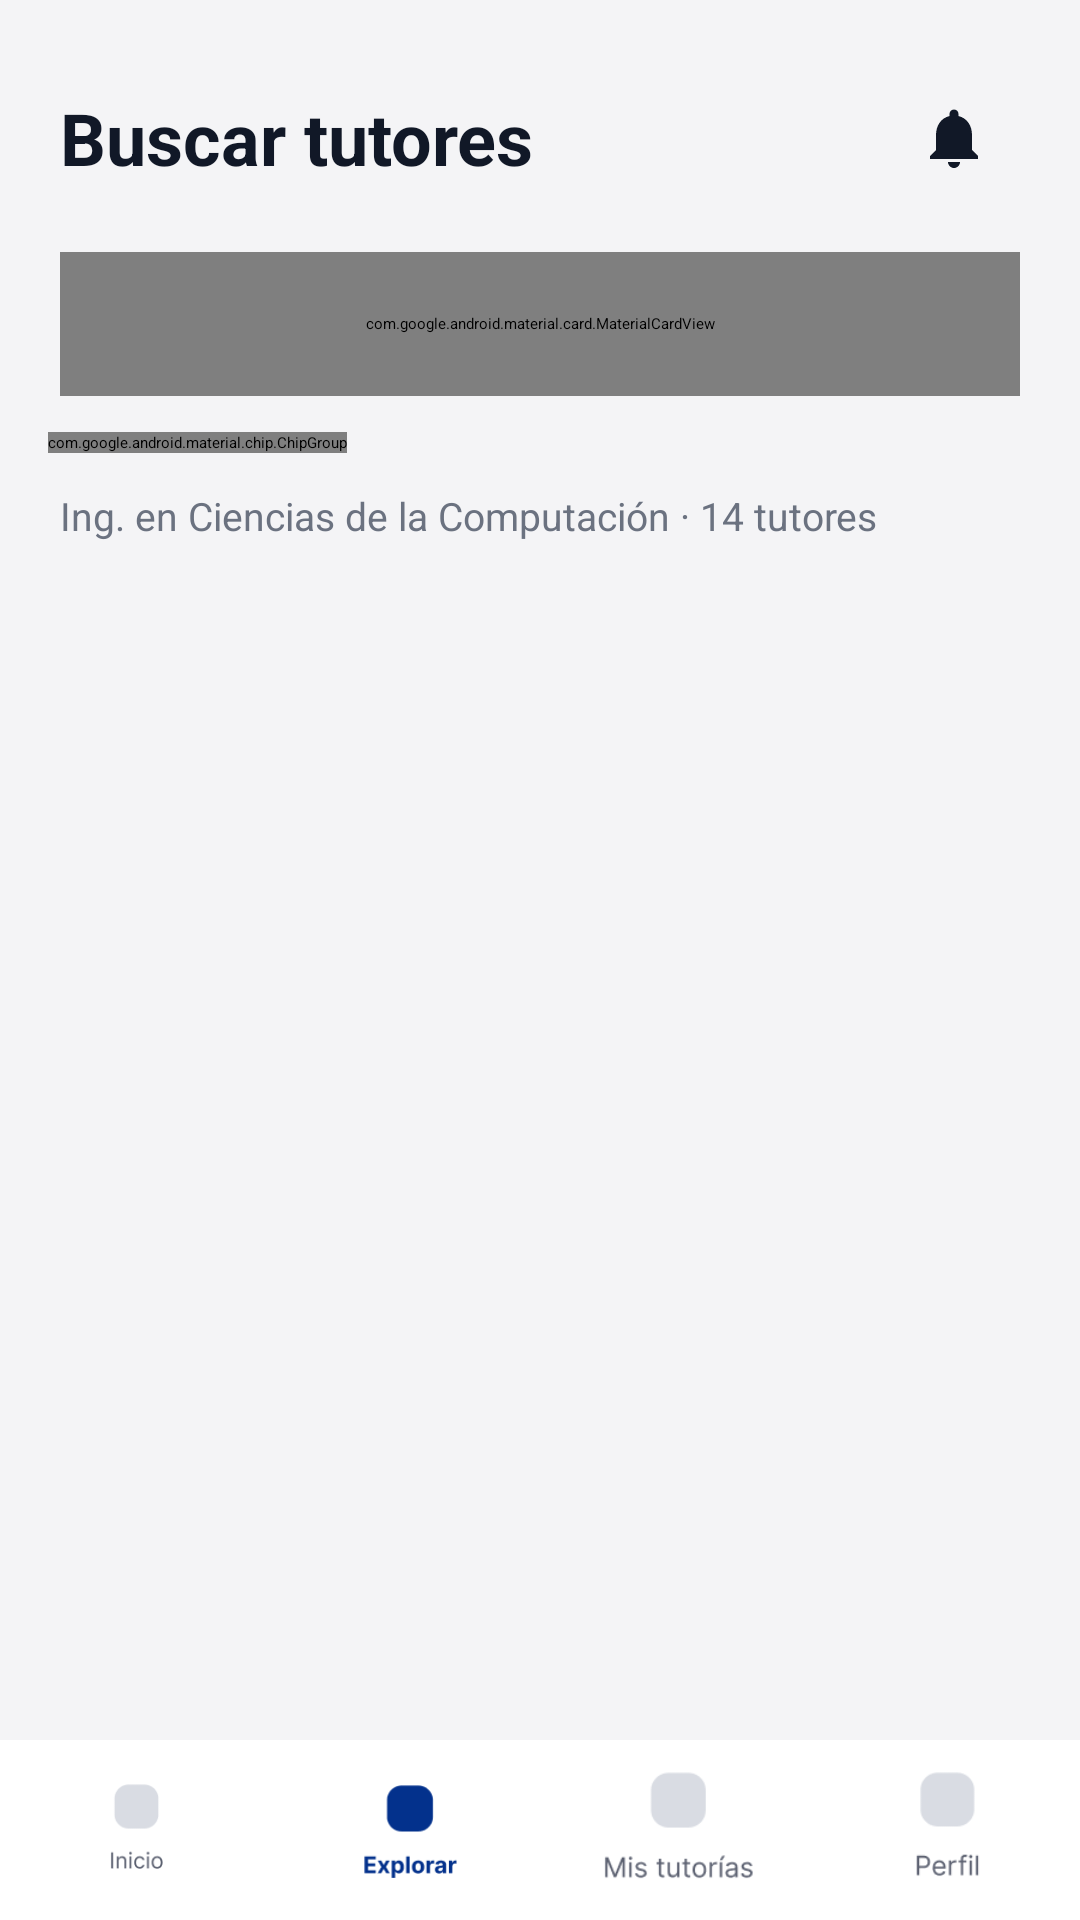

Locate icon controls on the screen. Image size 1080 × 1920, boxes as bbox=(x1, y1, x2, y2).
Notificaciones: bbox=(930, 109, 978, 168)
